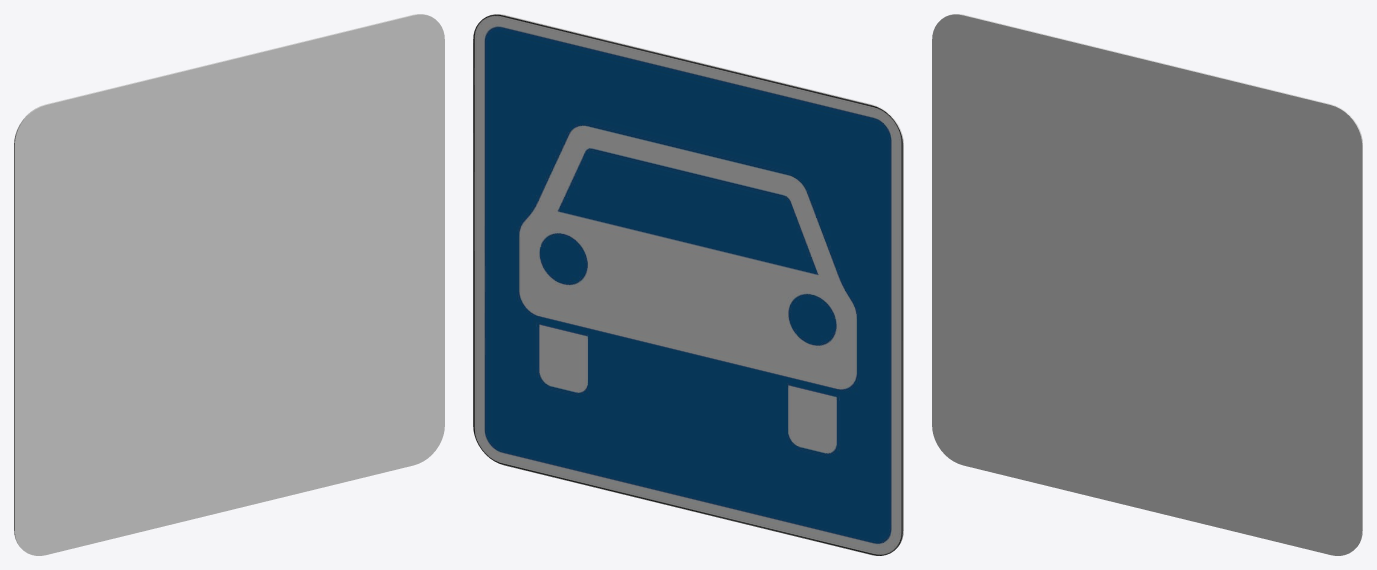
The picture shows the model from 3 angles, left to right: view 1: azimuth 30°, elevation 25°; view 2: azimuth 150°, elevation 25°; view 3: azimuth 330°, elevation 25°; orthographic projection.
Parts seen in each view (by area): view 1: Plane; view 2: Plane; view 3: Plane.
Boxes of the visible parts, x1,y1,x2,y2 form: Plane: [14, 14, 444, 555]; Plane: [473, 14, 903, 555]; Plane: [932, 14, 1362, 555].
Bounding box in the file's own units: 0.6 × 0.6 × 0.002.
2 materials, 1 textured.
